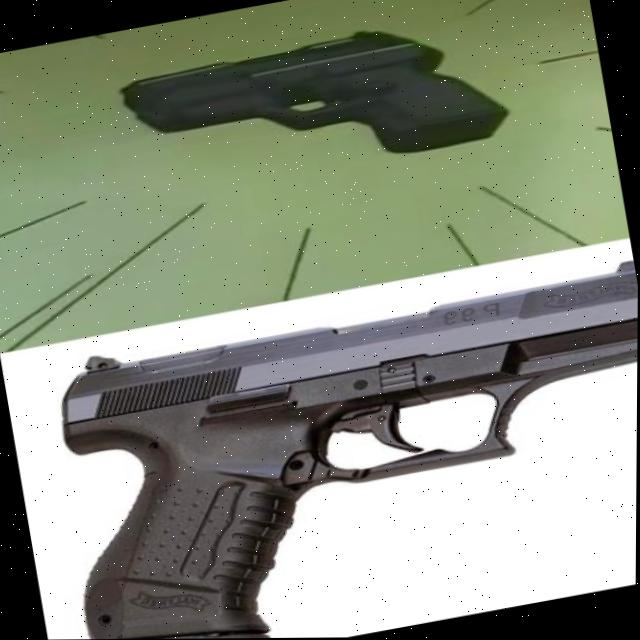pistol: (36, 257, 638, 640), (114, 4, 514, 204)
